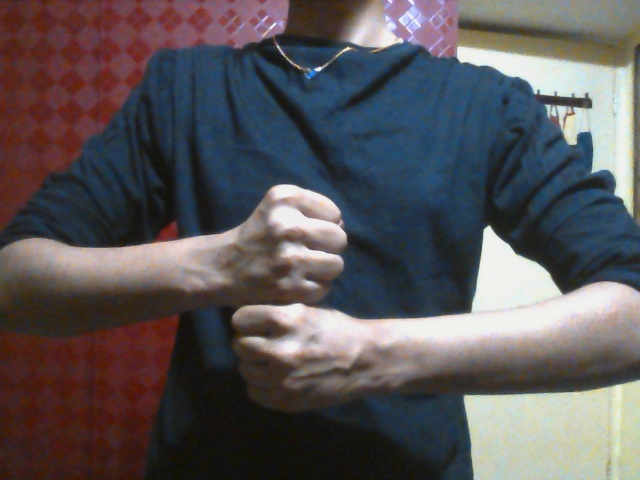G: (232, 182, 385, 415)
